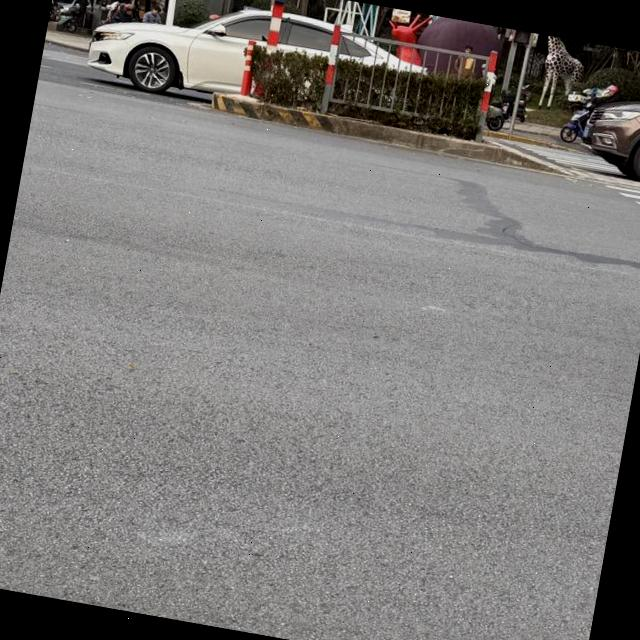curb: (210, 92, 560, 172), (485, 130, 573, 148), (44, 38, 86, 51)
